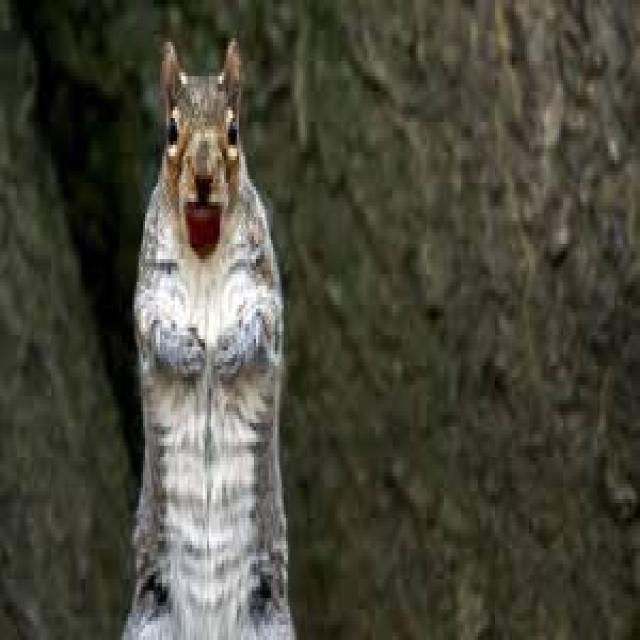Squirrel: (126, 34, 290, 640)
